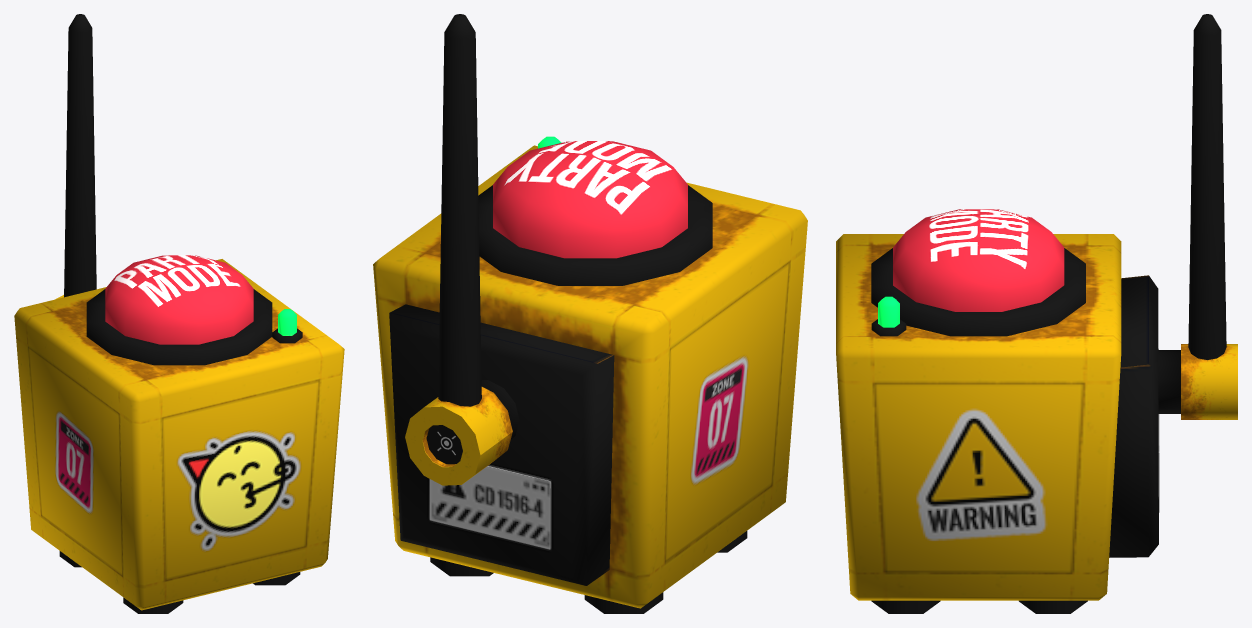
The model's file is partyButton.glb.
3 views of the same model, side by side, from view 1: azimuth 30°, elevation 25°; view 2: azimuth 150°, elevation 25°; view 3: azimuth 270°, elevation 25° (orthographic). The views are drawn at different scales.
Parts seen in each view (by area): view 1: Party Button_LOW, Party Button_LOW.001; view 2: Party Button_LOW, Party Button_LOW.001; view 3: Party Button_LOW, Party Button_LOW.001.
Boxes of the visible parts, x1,y1,x2,y2 form: Party Button_LOW: [14, 14, 344, 613]; Party Button_LOW.001: [105, 255, 253, 344]; Party Button_LOW: [373, 14, 807, 613]; Party Button_LOW.001: [493, 141, 687, 258]; Party Button_LOW: [836, 14, 1237, 613]; Party Button_LOW.001: [893, 209, 1064, 311].
Size of the model in its own units: 0.2245 by 0.4792 by 0.3164.
Materials: 1 (1 with a texture image).
